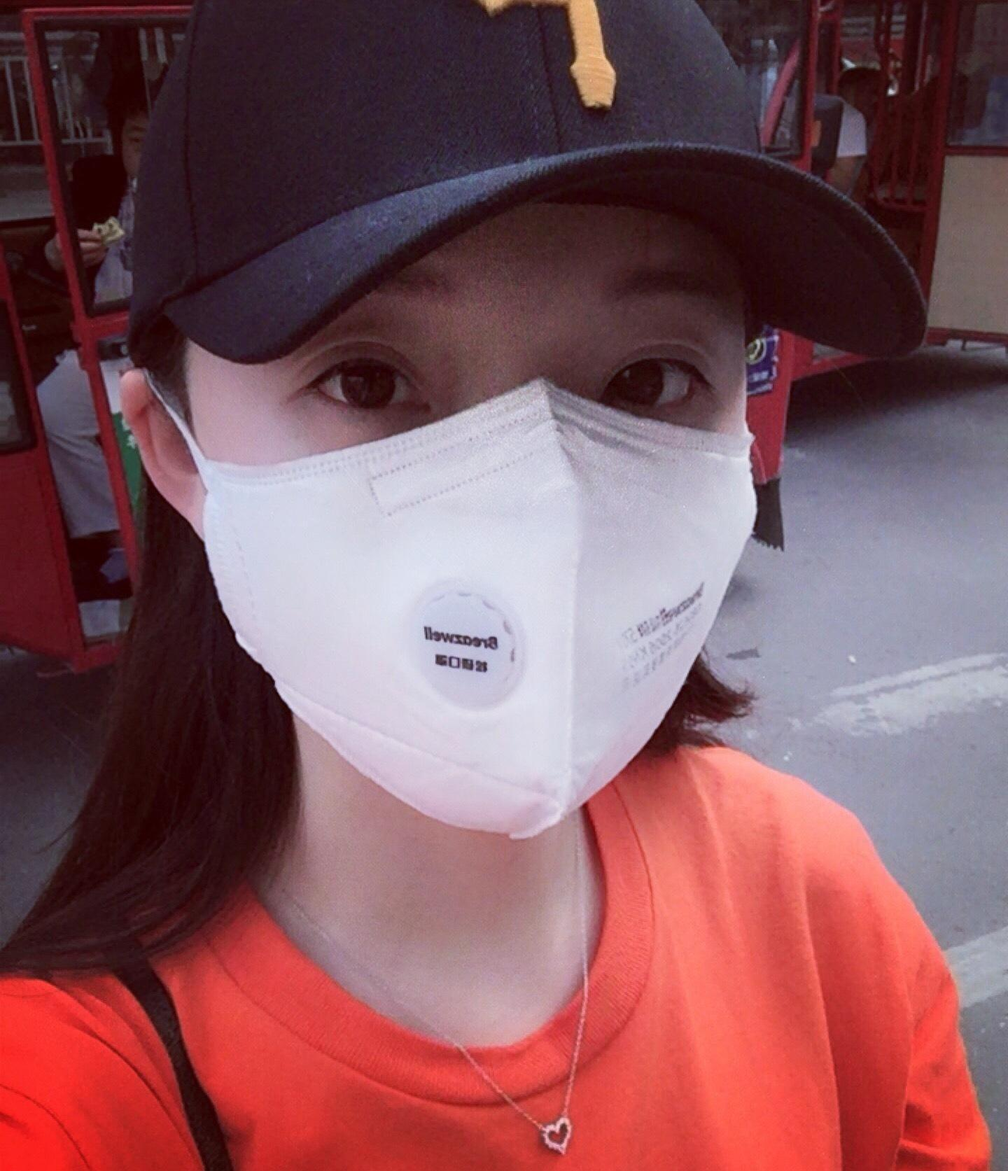OK: (179, 209, 766, 836)
